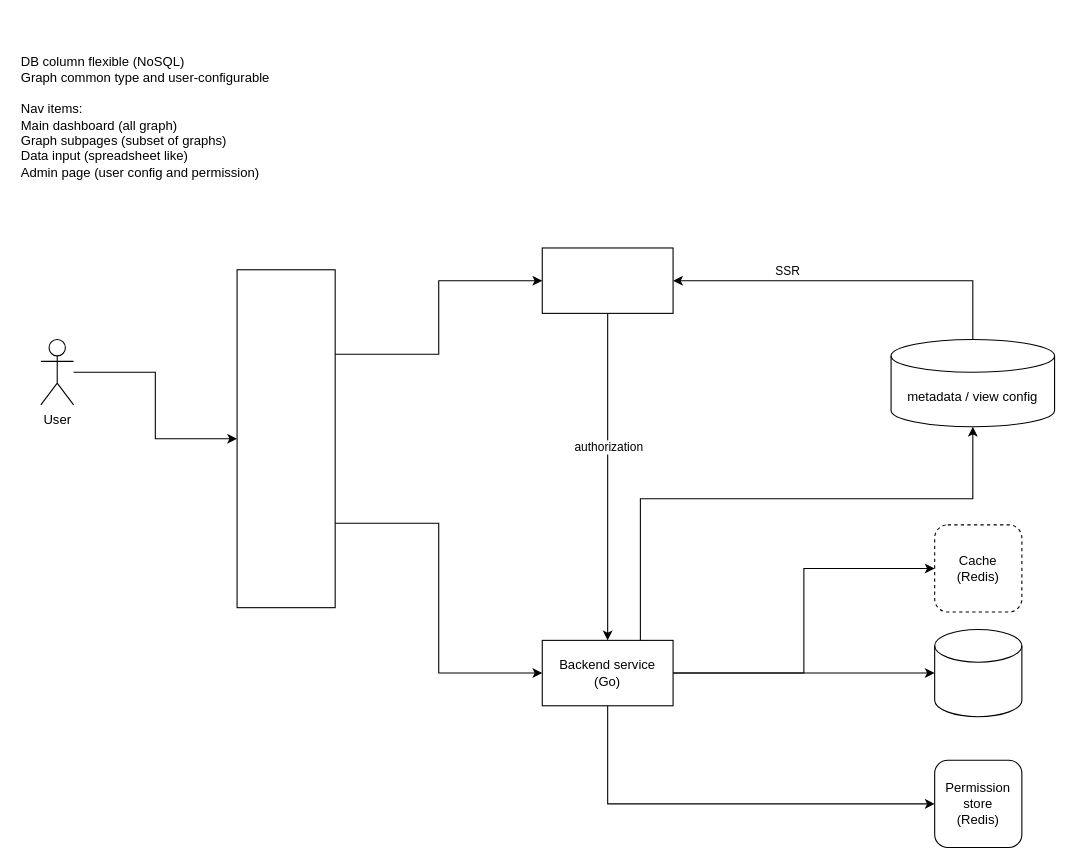
This 1074x867 diagram has some shape labels left out. Here are the shapes that lost their labels. From the top down, the box of each, then its label:
(541, 247, 673, 313): Frontend service Vite + Vue.js
(236, 269, 335, 608): nginx gateway
(934, 628, 1022, 717): DB (MongoDB)
